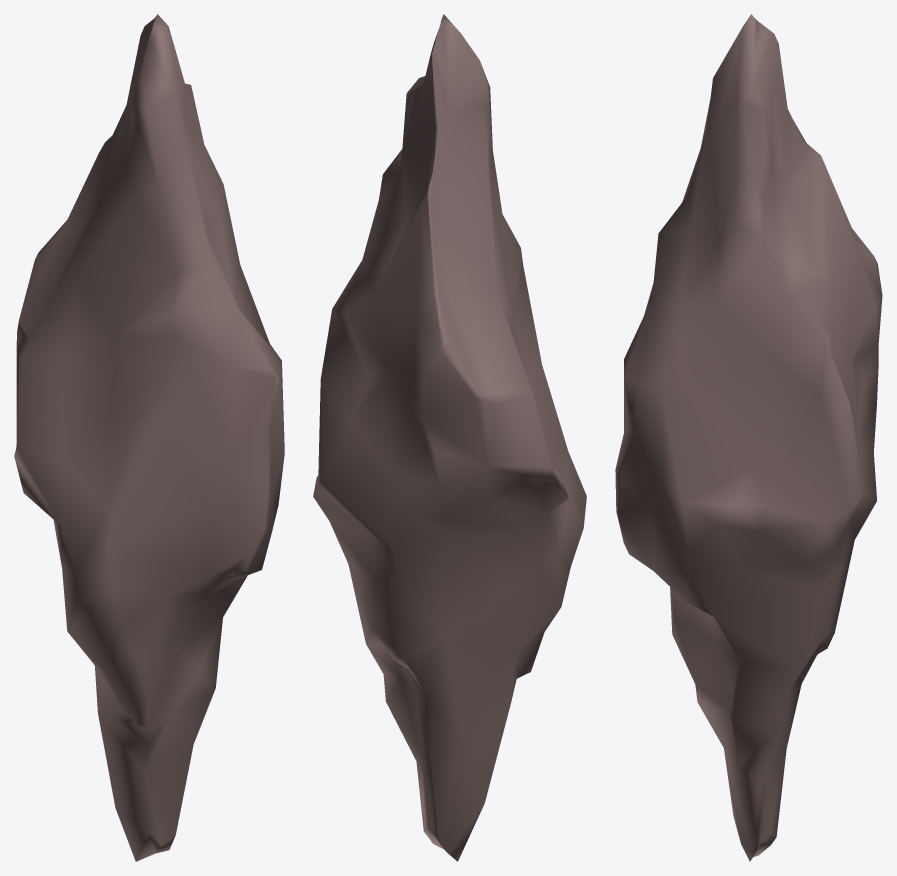
3 renders of one model, left to right at view 1: azimuth 30°, elevation 25°; view 2: azimuth 150°, elevation 25°; view 3: azimuth 270°, elevation 25°, orthographic.
Visible parts, largest first — view 1: G:\FFXIV-MapTools\exports\u5f1\bg\ex4\04_uvs_u5\fld\u5f1\bgp; view 2: G:\FFXIV-MapTools\exports\u5f1\bg\ex4\04_uvs_u5\fld\u5f1\bgp; view 3: G:\FFXIV-MapTools\exports\u5f1\bg\ex4\04_uvs_u5\fld\u5f1\bgp.
Part boxes in pixels (x1,y1,x2,y2): G:\FFXIV-MapTools\exports\u5f1\bg\ex4\04_uvs_u5\fld\u5f1\bgp: (14, 14, 284, 861); G:\FFXIV-MapTools\exports\u5f1\bg\ex4\04_uvs_u5\fld\u5f1\bgp: (313, 14, 586, 861); G:\FFXIV-MapTools\exports\u5f1\bg\ex4\04_uvs_u5\fld\u5f1\bgp: (615, 14, 882, 861).
Bounding box in the file's own units: 37.41 × 128 × 36.52.
